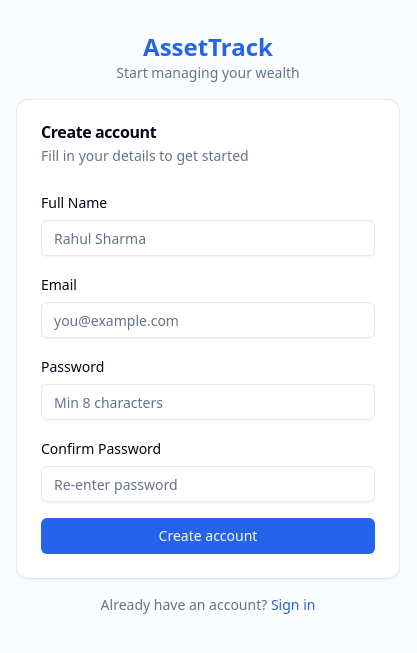
Register page › password shorter than 8 chars shows minLength error
The width and height of the screenshot is (417, 653).
Type "Amit Kumar" into the field labelled "Full Name". click: [208, 238]
box: [41, 220, 375, 256]
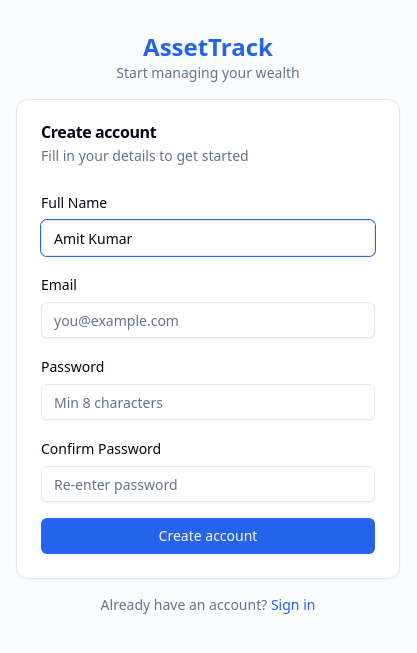
Type "amit@example.com" into the field labelled "Email". click: [208, 320]
box: [41, 302, 375, 338]
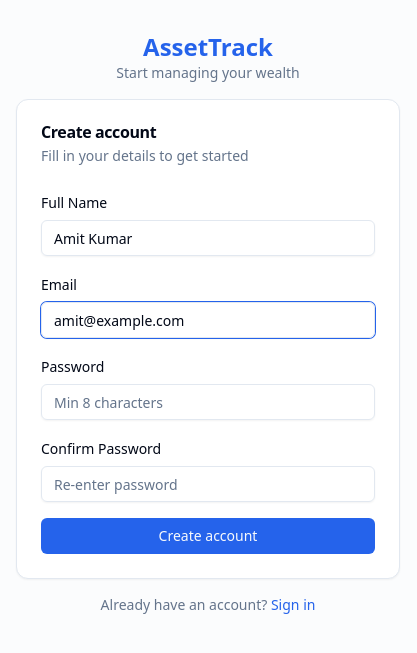
Type "short" into the password field with placeholder "Min 8 characters". click: [208, 402]
box: [41, 384, 375, 420]
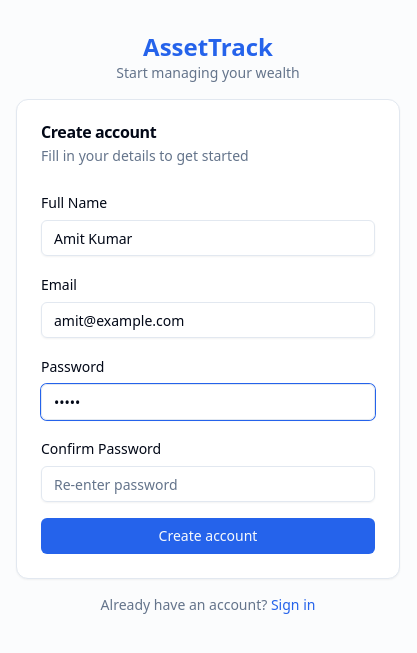
Click the button "Create account". click: [208, 536]
box: [41, 518, 375, 554]
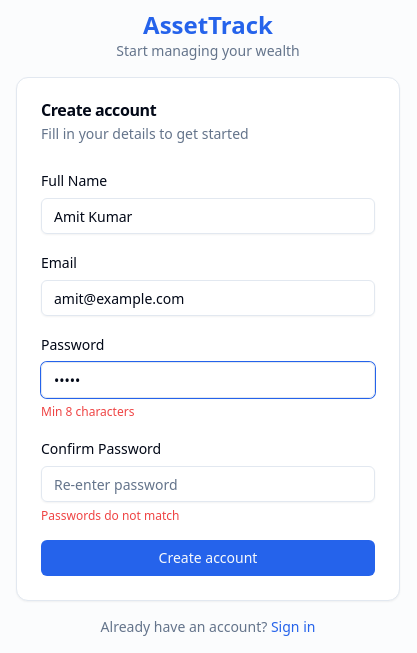
Expected: the text "Min 8 characters" is shown, [41, 403, 134, 420]
